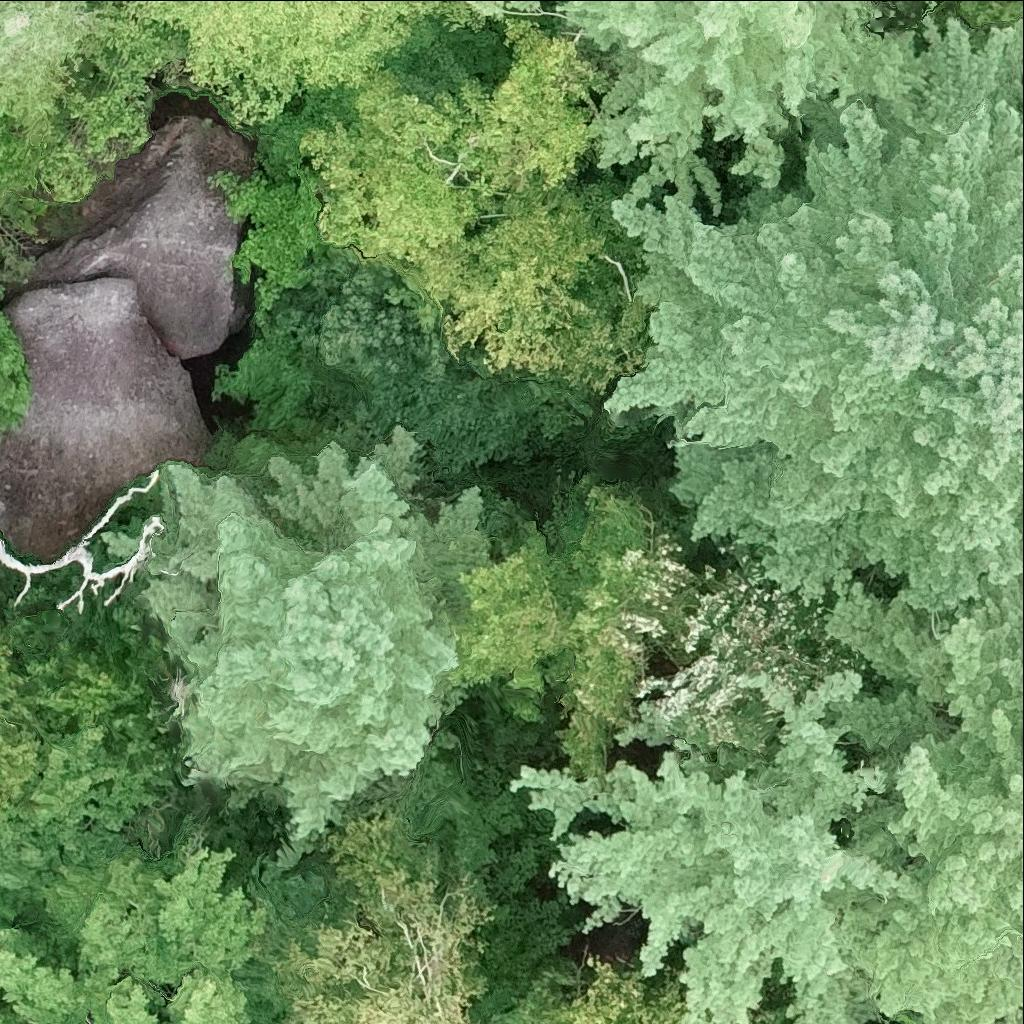crown: (601, 20, 1023, 603), (511, 666, 899, 1023), (153, 432, 478, 836), (465, 0, 926, 220), (829, 575, 1023, 1023), (276, 252, 594, 478), (0, 630, 189, 928), (410, 185, 657, 387), (271, 811, 498, 1023), (110, 0, 489, 123), (553, 479, 696, 781), (299, 79, 511, 256), (41, 830, 274, 988), (450, 19, 620, 188), (212, 109, 349, 314), (436, 520, 574, 722), (0, 490, 162, 606), (0, 0, 104, 131), (0, 923, 120, 1023), (88, 967, 249, 1023), (0, 633, 38, 823), (564, 967, 685, 1023), (167, 668, 192, 715), (960, 0, 1023, 14), (0, 1005, 28, 1023)
